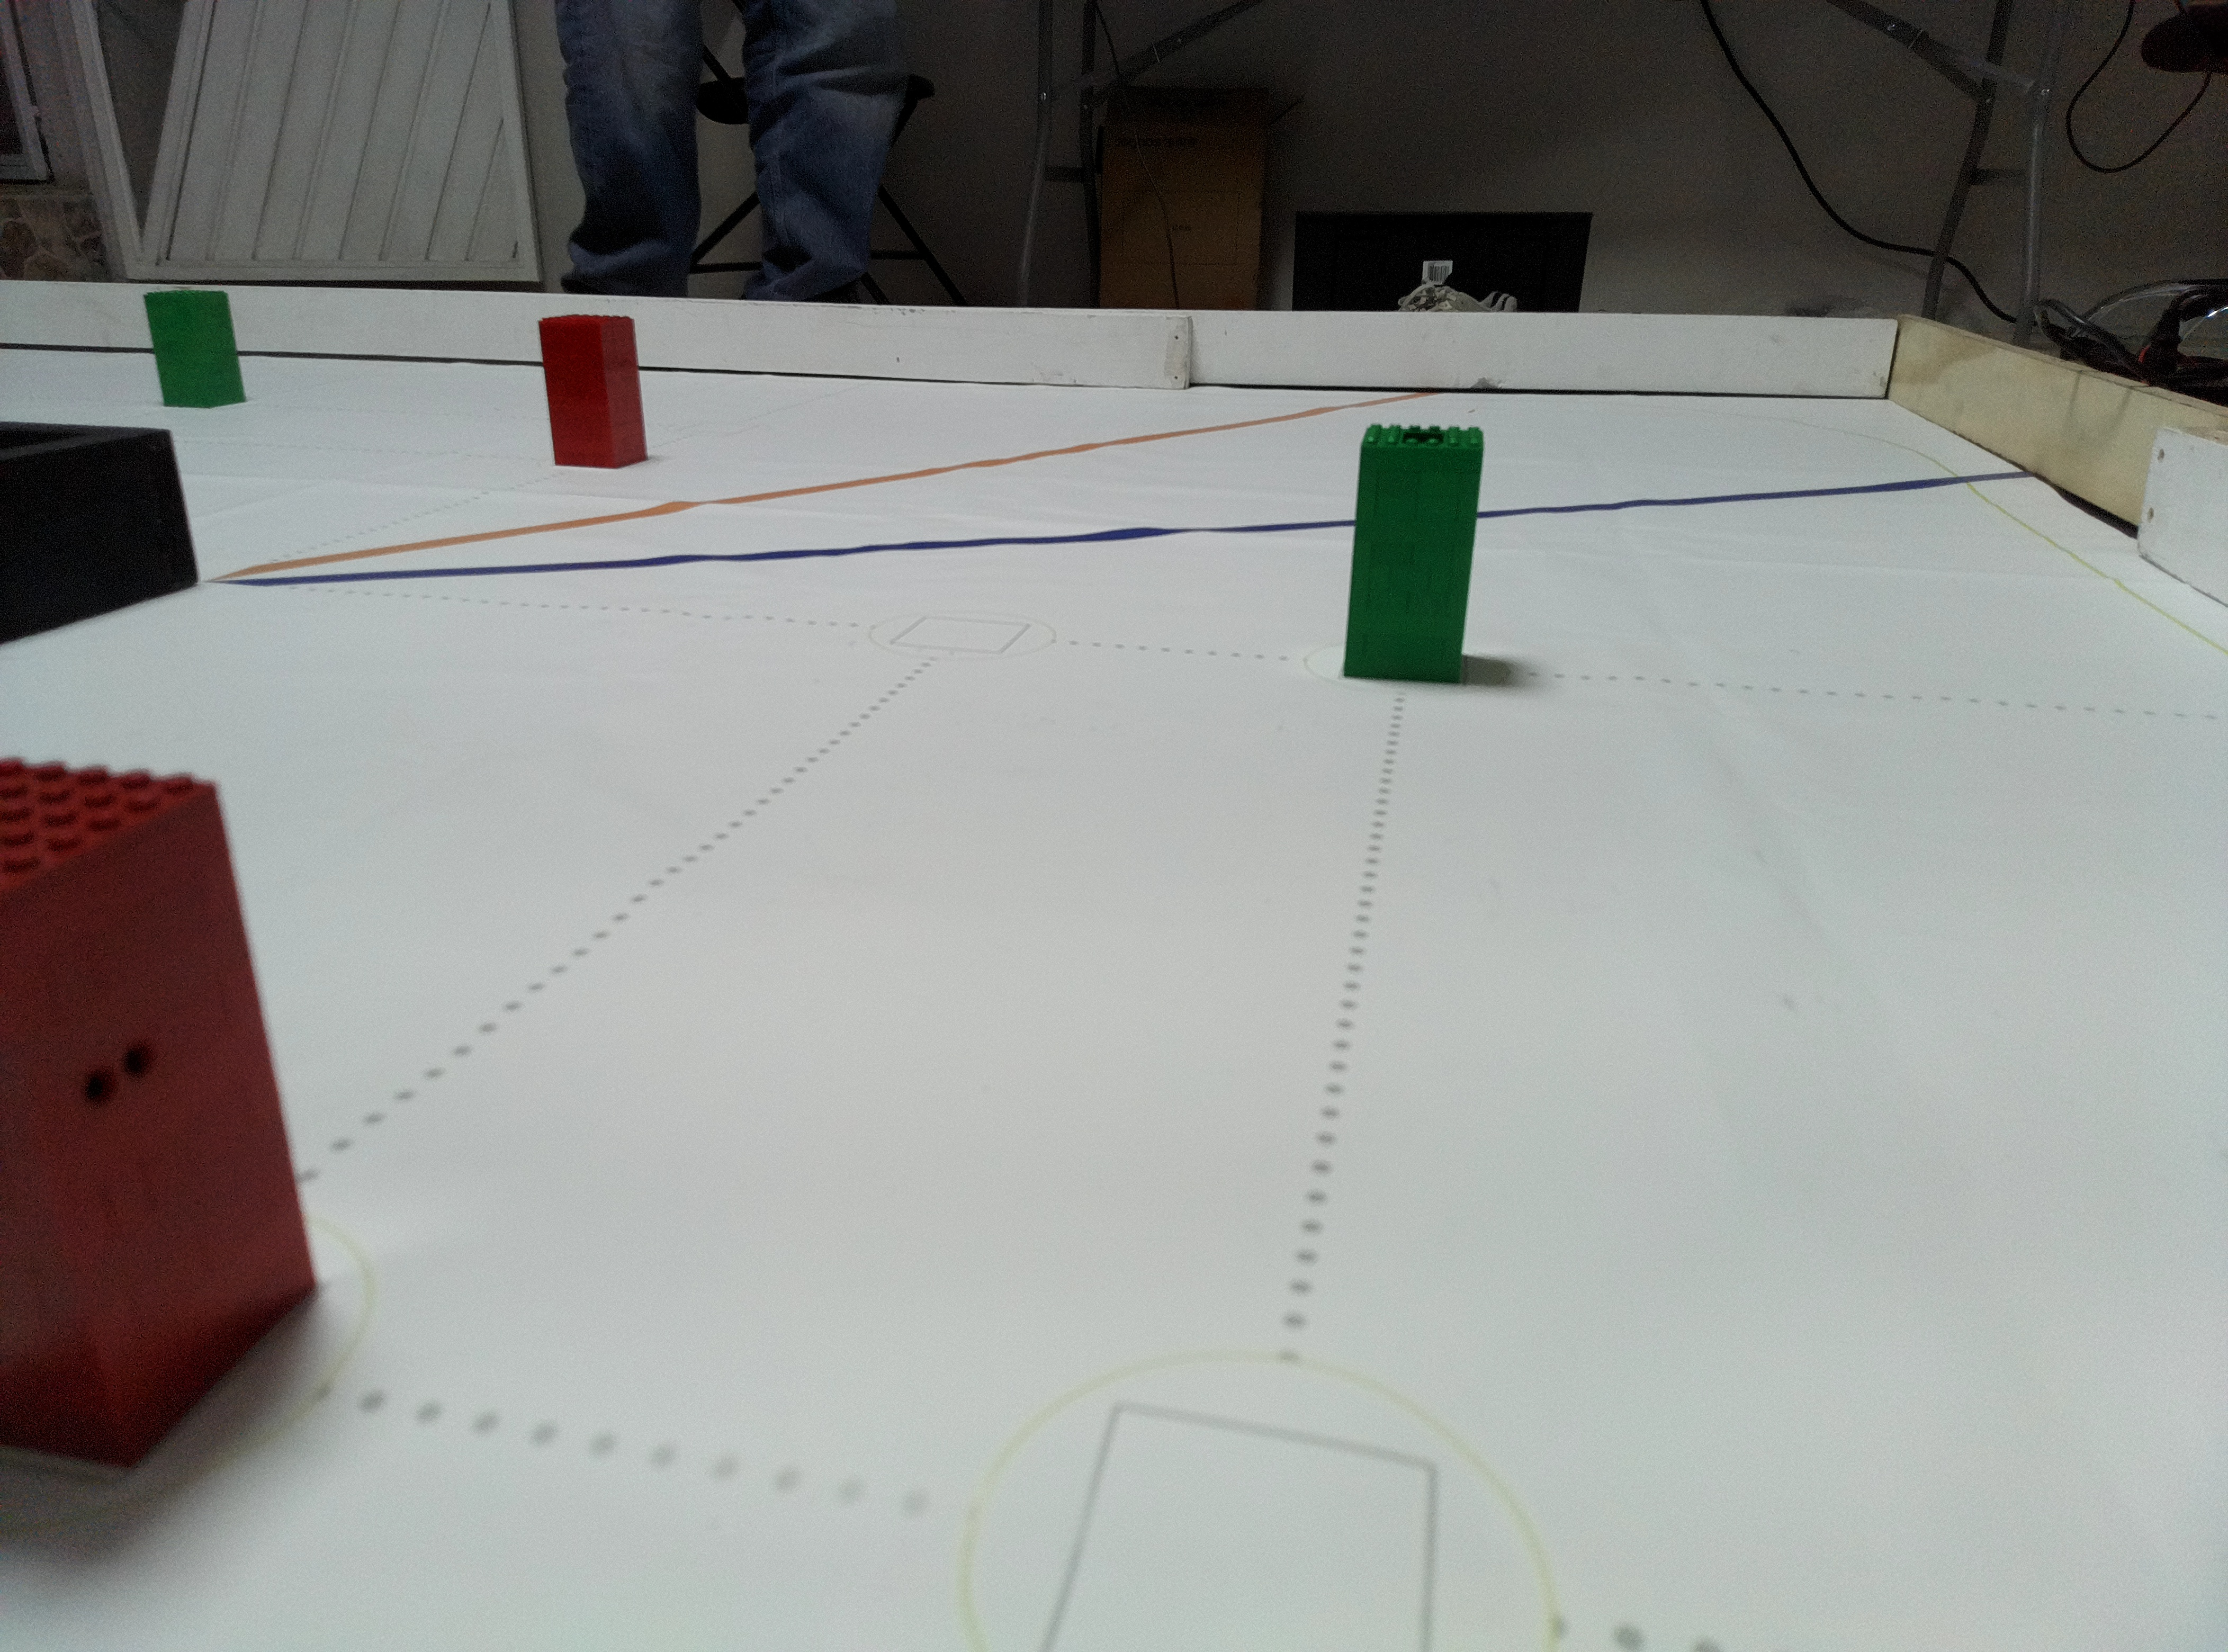greenbox: (1340, 423, 1485, 684), (146, 290, 250, 410)
redbox: (3, 755, 323, 1485), (540, 311, 647, 472)
